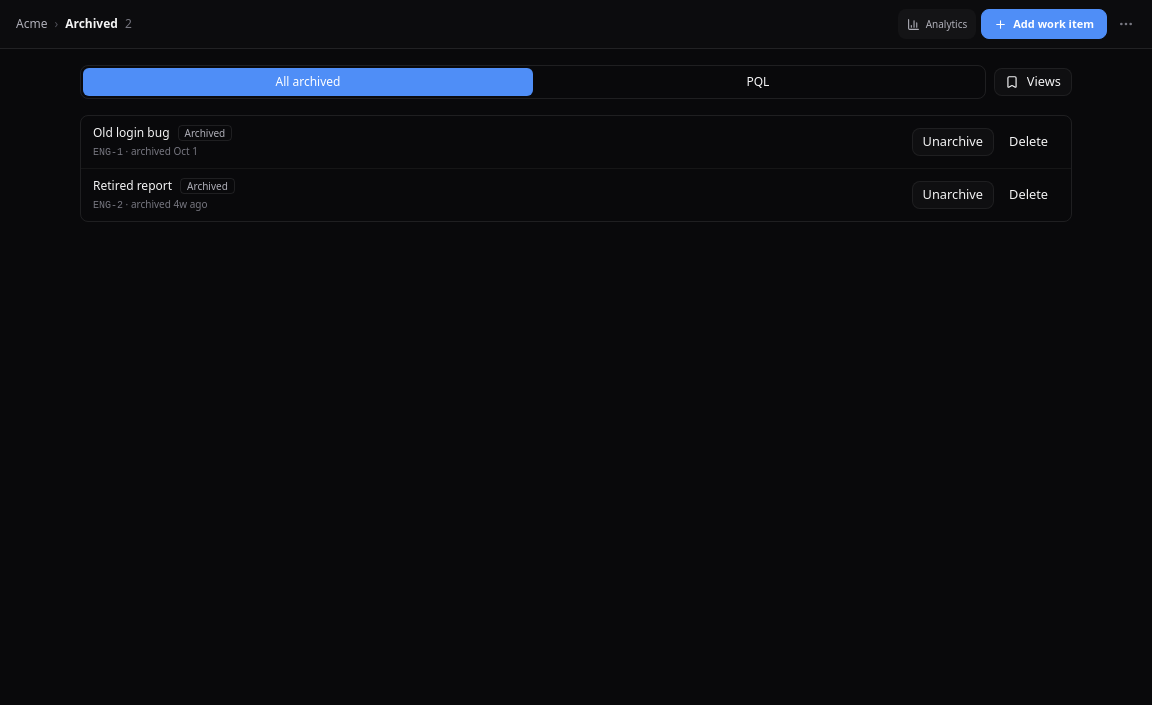
archived PQL mode (C111T1) › unarchive from a PQL-filtered list re-runs the list in place
Expected: the link "Old login bug" is shown, top-left (93, 124), bottom-right (170, 142)
Expected: the link "Retired report" is shown, top-left (93, 177), bottom-right (172, 195)
Click the button "PQL". click: (758, 82)
box: top-left (533, 68), bottom-right (983, 96)
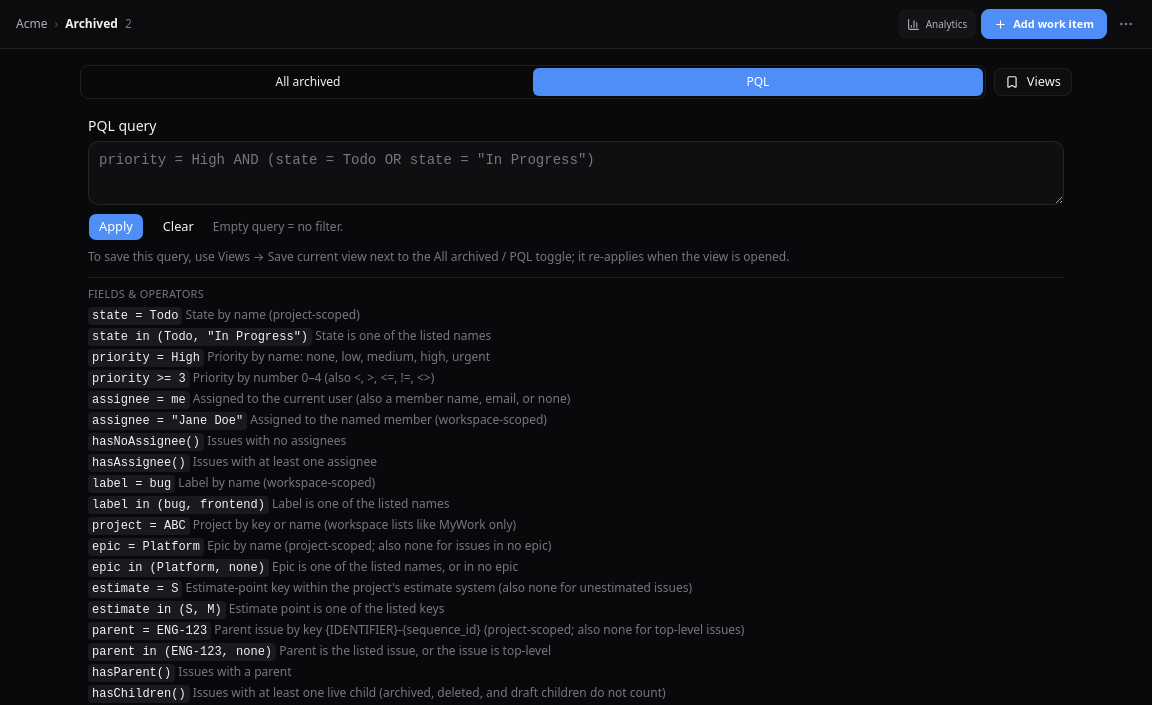
Expected: the text box labelled "PQL query" is shown
Type "priority = High" into the text box labelled "PQL query". click: (576, 173)
box: top-left (88, 141), bottom-right (1064, 205)
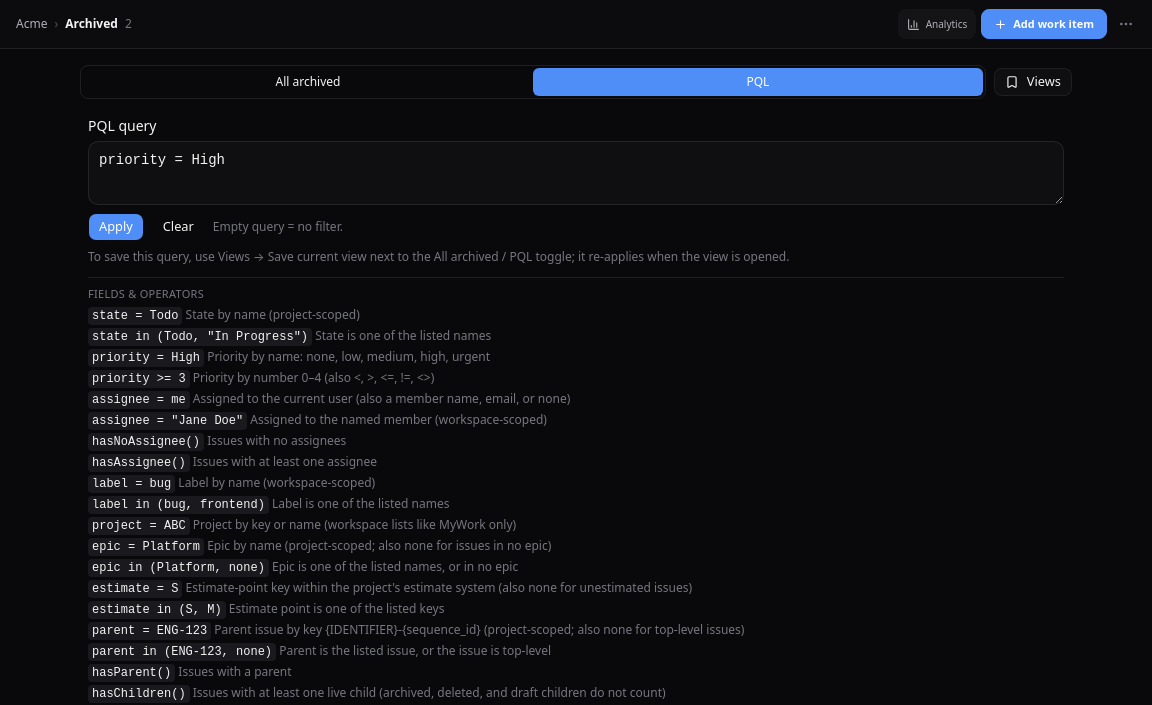
Click the button "Apply". click: (116, 227)
box: top-left (88, 213), bottom-right (144, 241)
(page scrolled)
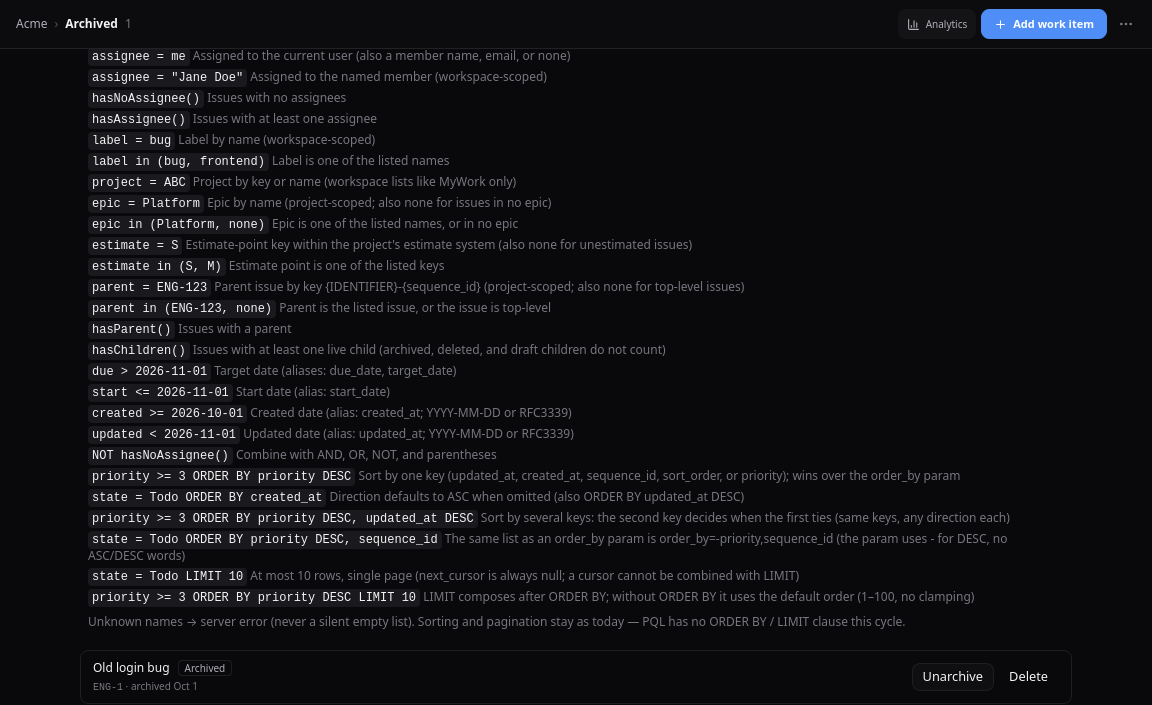
Expected: the link "Retired report" is not shown
Click the button "Unarchive". click: (953, 676)
box: top-left (912, 662), bottom-right (994, 690)
(page scrolled)
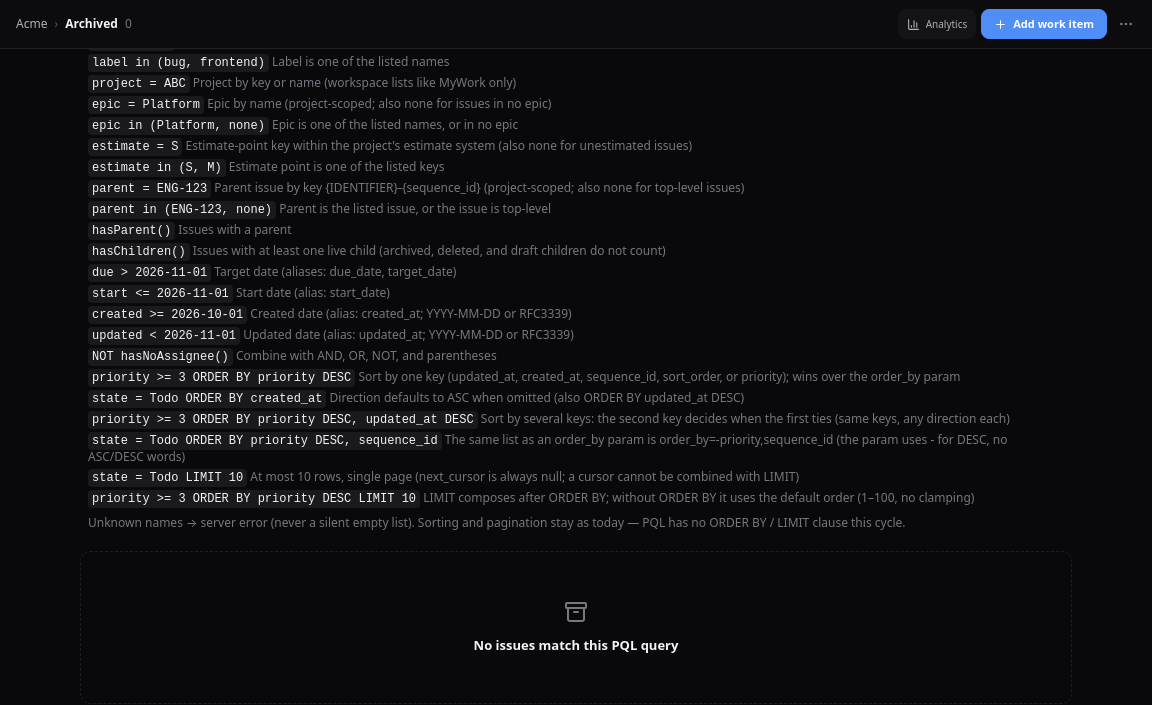
Expected: the text "No issues match this PQL query" is shown, top-left (474, 636), bottom-right (678, 655)
